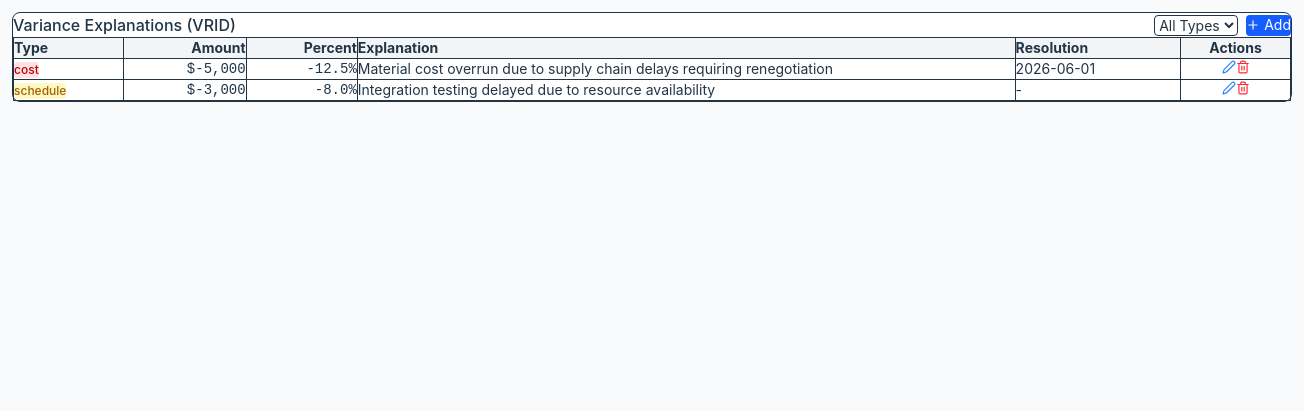
Test: VariancePanel › edit variance explanation › opens edit form with pre-filled data when edit button is clicked
# Click edit on the first variance (cost type)
Click the button titled "Edit" in the row of "-5,000": {"x": 1228, "y": 67} [1222,60,1236,74]
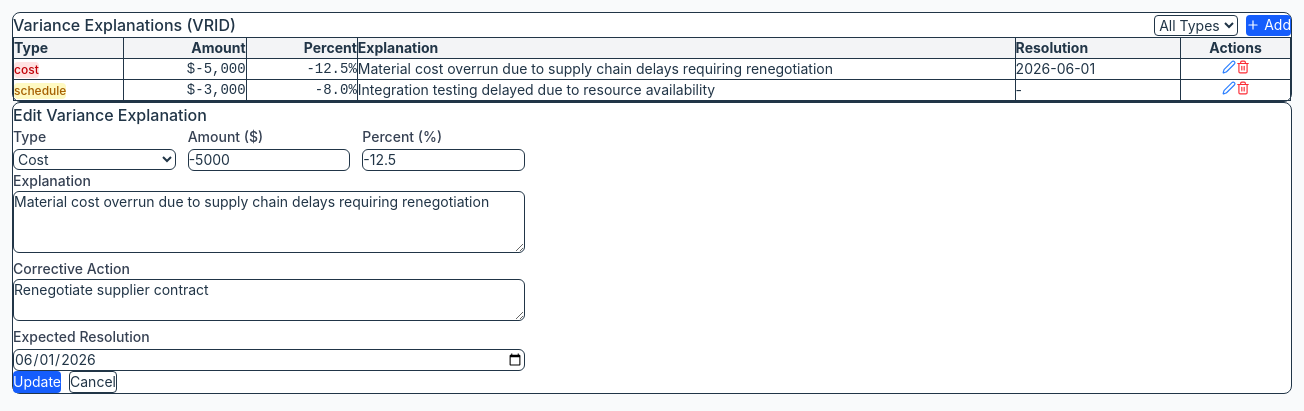
Expected: the heading "Edit Variance Explanation" is shown, [13,105,207,125]
Expected: the text box labelled "Explanation" holds "Material cost overrun due to supply chain delays requiring renegotiation", [13,191,525,253]
Expected: the text box labelled "Corrective Action" holds "Renegotiate supplier contract", [13,279,525,321]
